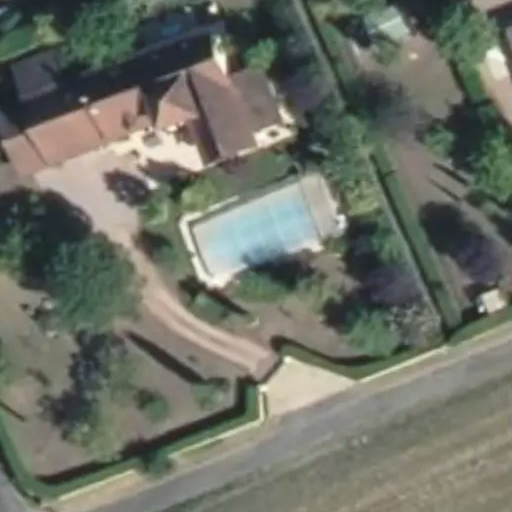pool: (199, 237, 319, 241)
